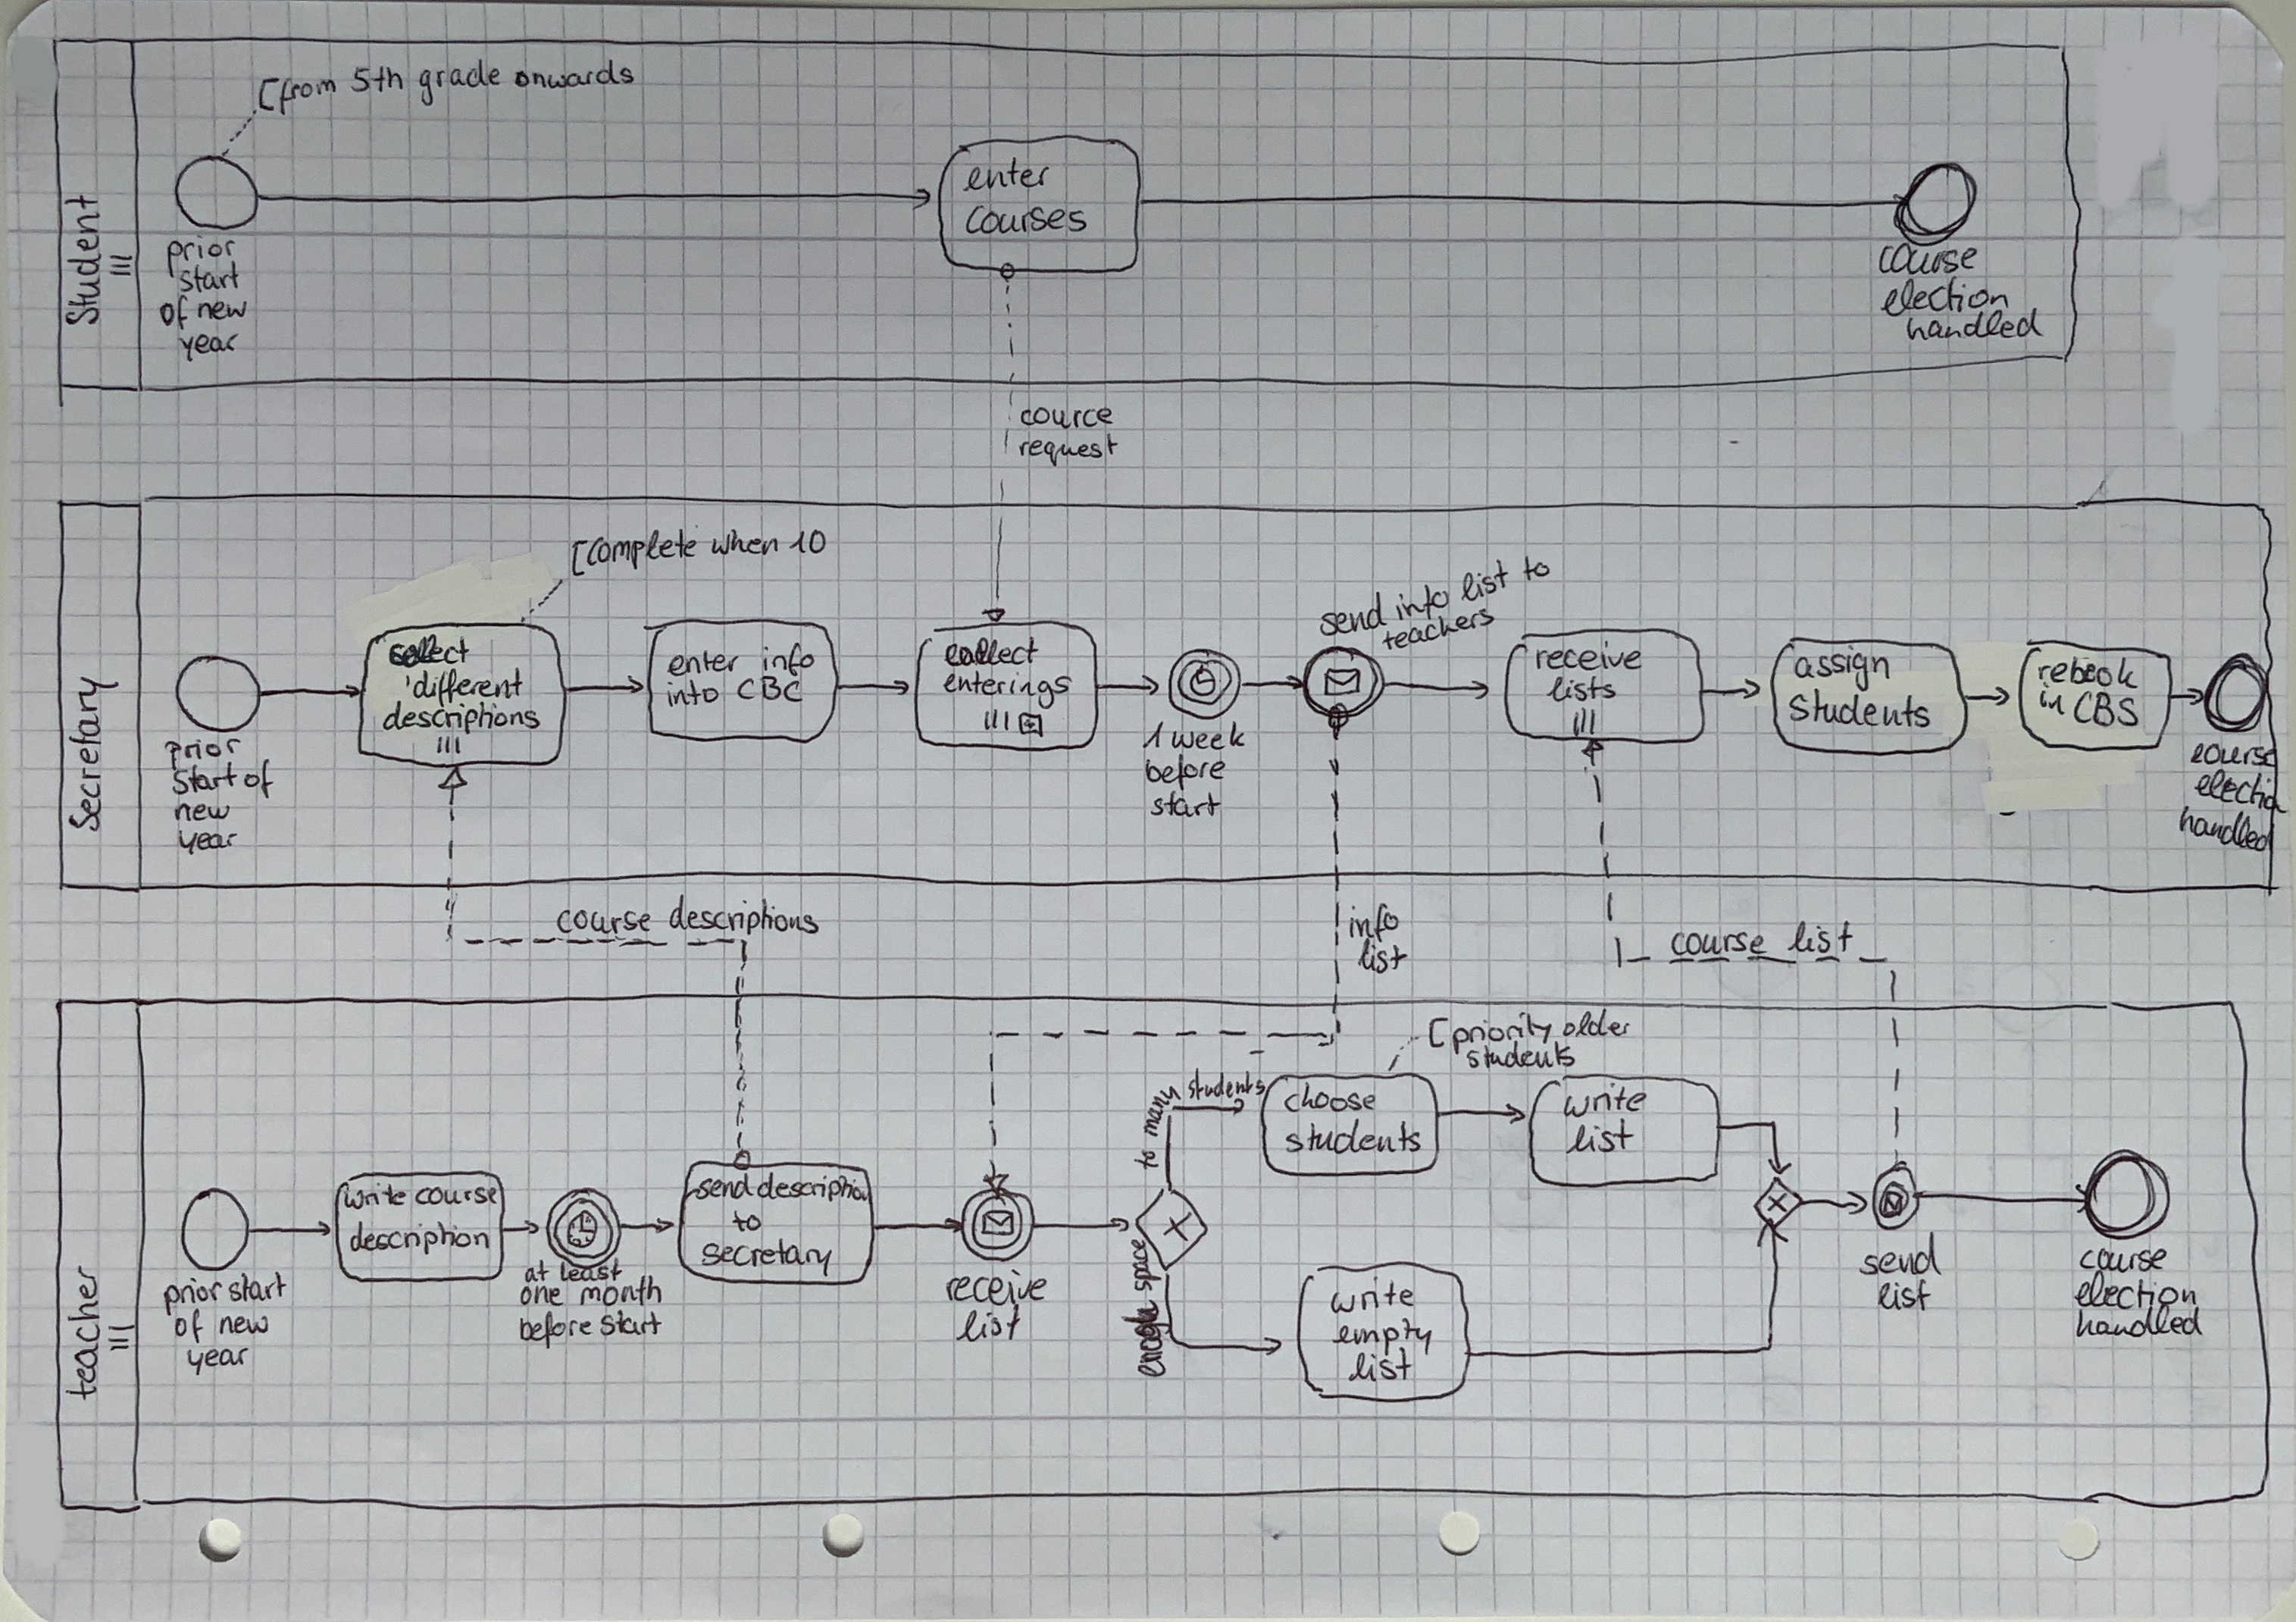1: (1140, 721, 1165, 752)
10: (786, 528, 831, 556)
5th: (349, 64, 407, 96)
CBC: (736, 673, 805, 705)
CBS: (2070, 690, 2142, 731)
Secretary: (67, 673, 120, 834)
Start: (170, 760, 240, 800)
Student: (63, 195, 105, 327)
Students: (1786, 687, 1932, 731)
assign: (1793, 643, 1894, 692)
at: (523, 1260, 552, 1285)
before: (1144, 751, 1226, 791), (517, 1310, 595, 1351)
choose: (1283, 1081, 1379, 1114)
collect: (944, 636, 1041, 667), (387, 634, 472, 669)
complete: (583, 533, 699, 575)
cource: (1018, 404, 1115, 428)
course: (1876, 242, 1980, 278), (1668, 928, 1769, 958), (555, 909, 655, 936), (2188, 741, 2278, 769), (2079, 1247, 2168, 1272), (413, 1184, 501, 1207)
courses: (965, 202, 1089, 238)
description: (349, 1219, 493, 1257), (755, 1171, 874, 1207)
descriptions: (667, 892, 821, 938), (381, 703, 540, 735)
different: (411, 667, 527, 706)
election: (1878, 274, 2012, 319), (2072, 1270, 2201, 1311), (2197, 761, 2294, 800)
empty: (1333, 1317, 1435, 1353)
enough: (1120, 1300, 1168, 1380)
enter: (962, 157, 1052, 193), (667, 647, 741, 679)
enterings: (940, 669, 1076, 708)
from: (277, 76, 338, 117)
grade: (418, 58, 503, 109)
handled: (1905, 306, 2044, 343), (2074, 1304, 2203, 1339), (2182, 800, 2281, 837)
in: (2037, 680, 2069, 716)
info: (1389, 593, 1452, 630), (759, 641, 819, 677), (1346, 902, 1403, 941)
into: (665, 678, 724, 711)
least: (557, 1258, 627, 1283)
list: (1566, 1118, 1637, 1155), (1787, 919, 1856, 955), (954, 1307, 1023, 1343), (1349, 1347, 1414, 1382), (1356, 938, 1411, 975), (1451, 571, 1507, 608), (1875, 1280, 1933, 1311)
lists: (1545, 674, 1618, 704)
many: (1142, 1083, 1184, 1138)
month: (578, 1274, 665, 1308)
new: (216, 1312, 271, 1338), (171, 800, 233, 823), (194, 299, 251, 321)
of: (241, 756, 276, 800), (158, 294, 194, 330), (173, 1306, 206, 1344)
older: (1560, 1007, 1634, 1040)
one: (519, 1283, 567, 1309)
onwards: (512, 58, 636, 92)
prior: (164, 233, 236, 277), (161, 1273, 225, 1316), (164, 736, 244, 769)
priority: (1450, 1012, 1553, 1057)
rebook: (2035, 655, 2141, 690)
receive: (943, 1269, 1050, 1307), (1534, 639, 1644, 675)
request: (1015, 432, 1121, 468)
secretary: (699, 1238, 836, 1273)
send: (1858, 1230, 1943, 1276), (1314, 596, 1382, 640), (693, 1172, 755, 1202)
space: (1130, 1234, 1163, 1295)
start: (177, 259, 244, 295), (1149, 790, 1222, 820), (227, 1271, 290, 1304), (599, 1309, 664, 1337)
students: (1284, 1118, 1423, 1154), (1465, 1038, 1578, 1069), (1184, 1067, 1269, 1102)
teacher: (64, 1263, 102, 1402)
teachers: (1380, 627, 1498, 655)
to: (1520, 553, 1553, 584), (730, 1207, 764, 1235), (1131, 1148, 1159, 1174)
week: (1170, 720, 1246, 753)
when: (709, 528, 782, 557)
write: (1329, 1273, 1419, 1315), (1561, 1081, 1650, 1119), (343, 1178, 409, 1210)
year: (178, 329, 242, 365), (186, 1345, 252, 1377), (174, 828, 240, 856)
